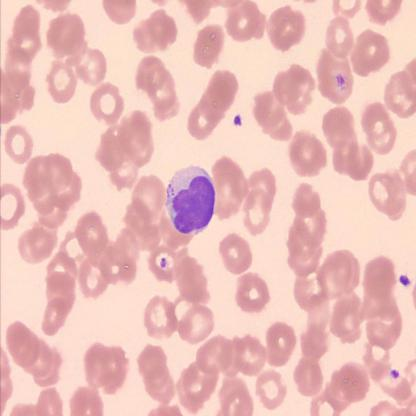Lymphocyte: (164, 164, 216, 236)
